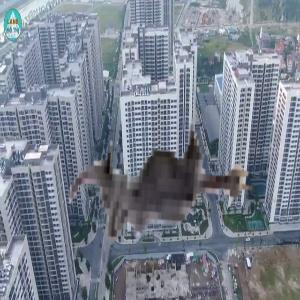drone: (62, 68, 278, 284)
